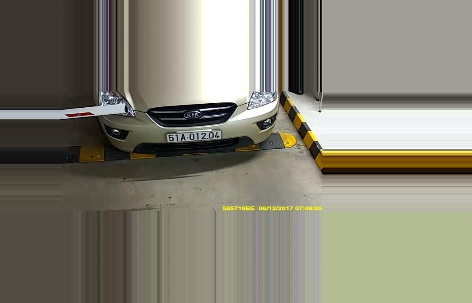plate: (166, 128, 224, 143)
